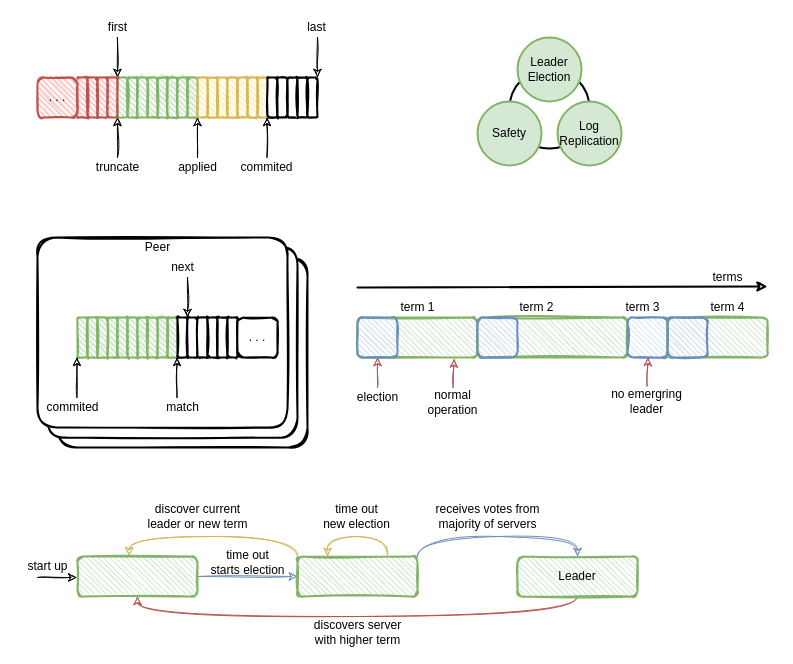
The diagram is 793 pixels wide and 664 high, and some of its shapes have lost their labels. Here are the shapes that lost their labels. From the top down, the centre of each, then its label:
(137,576): Follower
(357,576): Candidate
